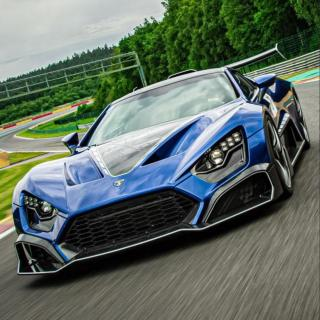Normal_vehicle: (13, 64, 312, 284)
